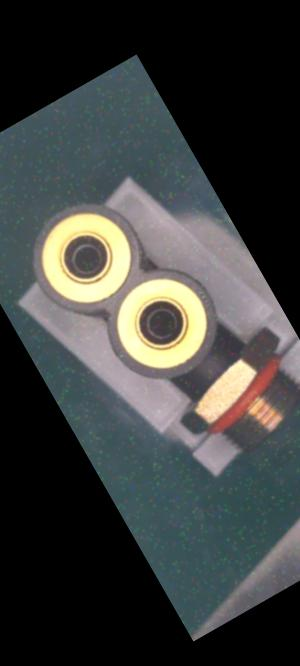white mark: (208, 356, 227, 375)
